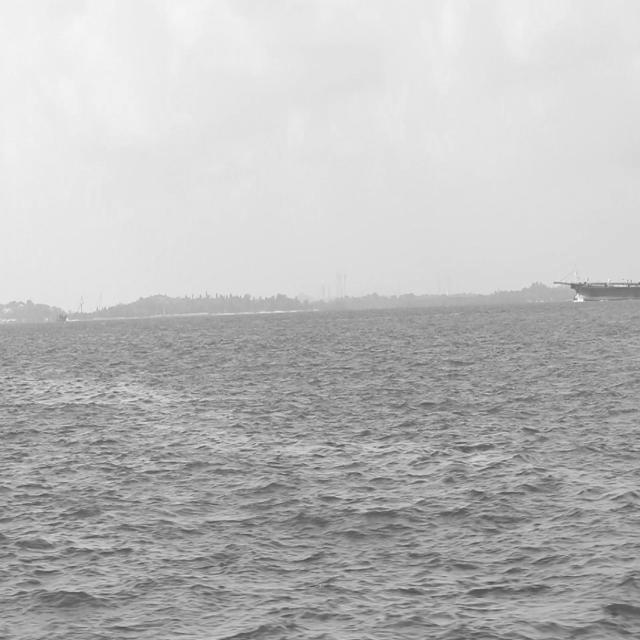ship: (549, 253, 639, 308)
